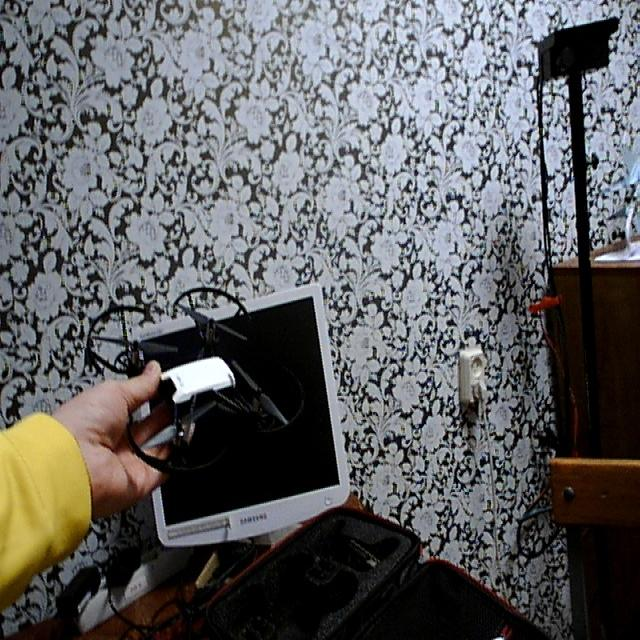drone: (76, 276, 314, 491)
